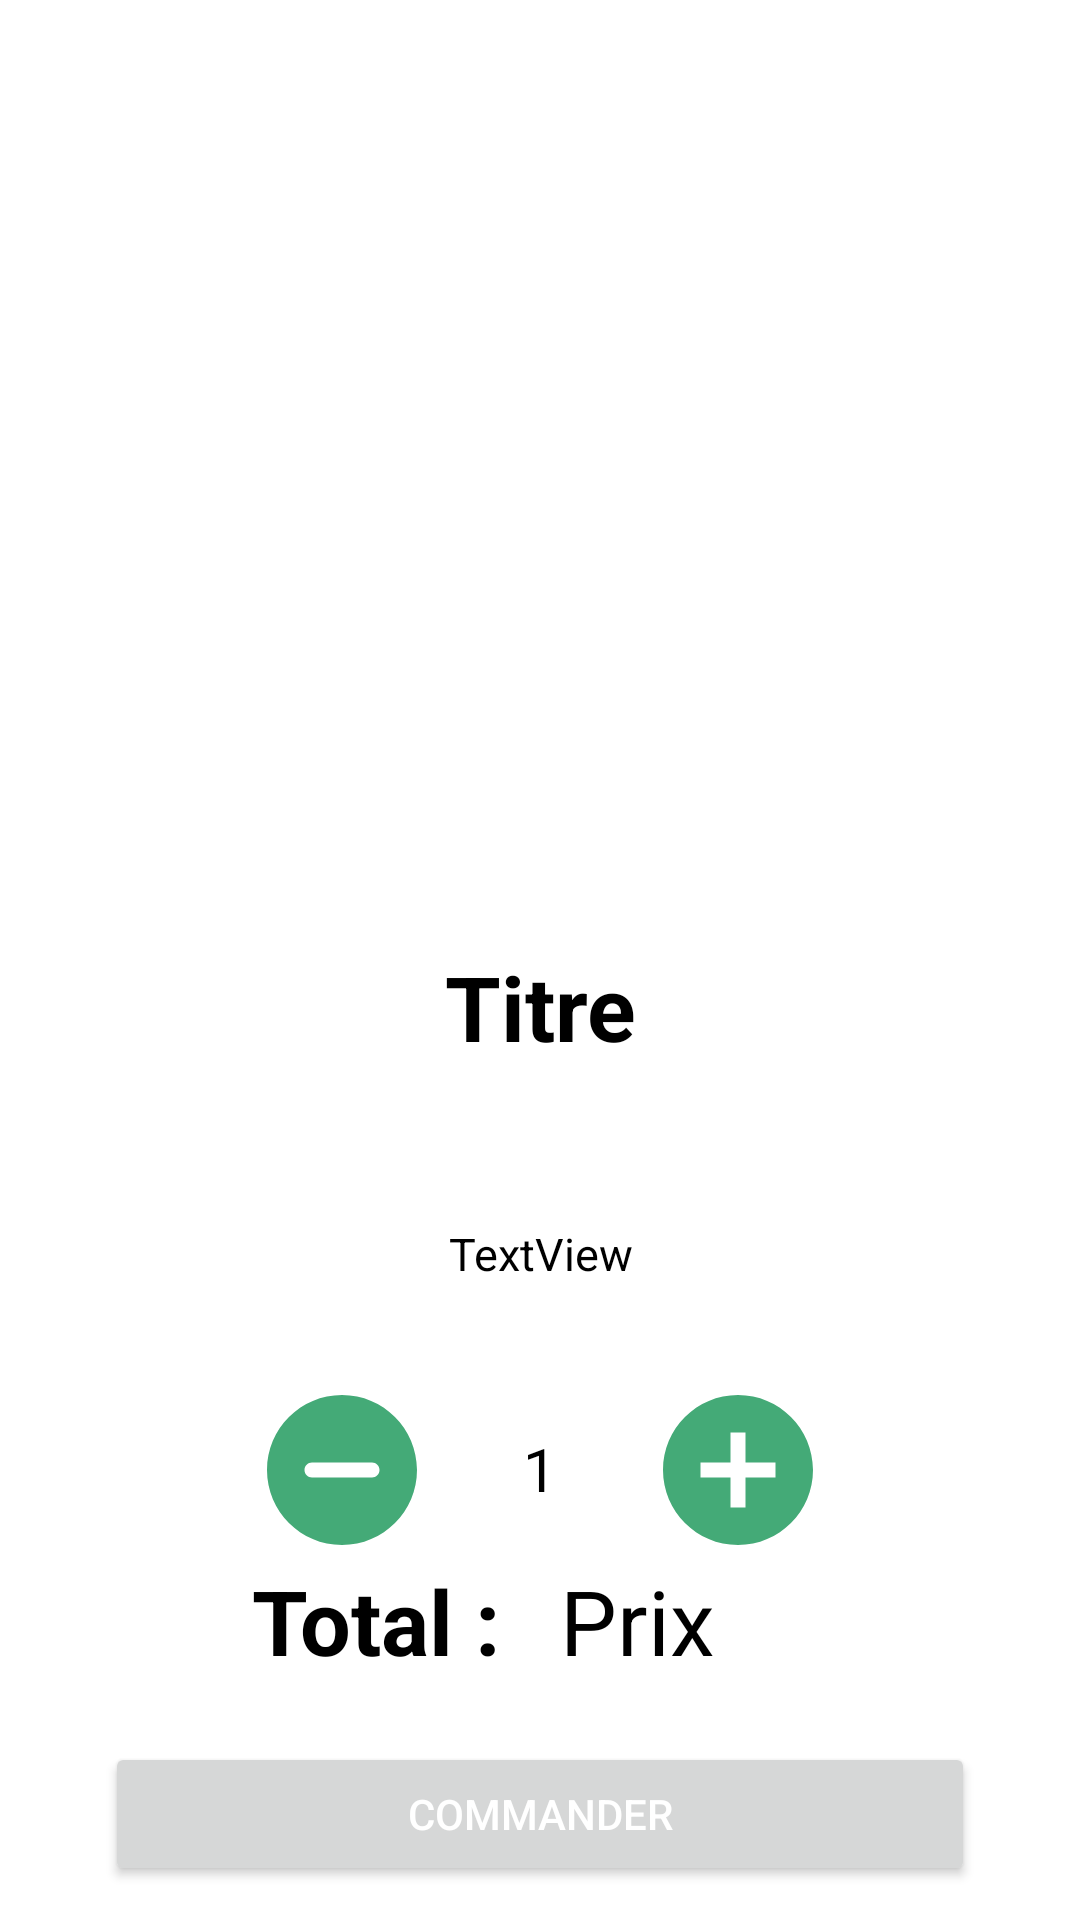

Icon click points for this 1080×1920 phone screenshot, format [x,y]:
add: [738,1470]
remove: [342,1470]
